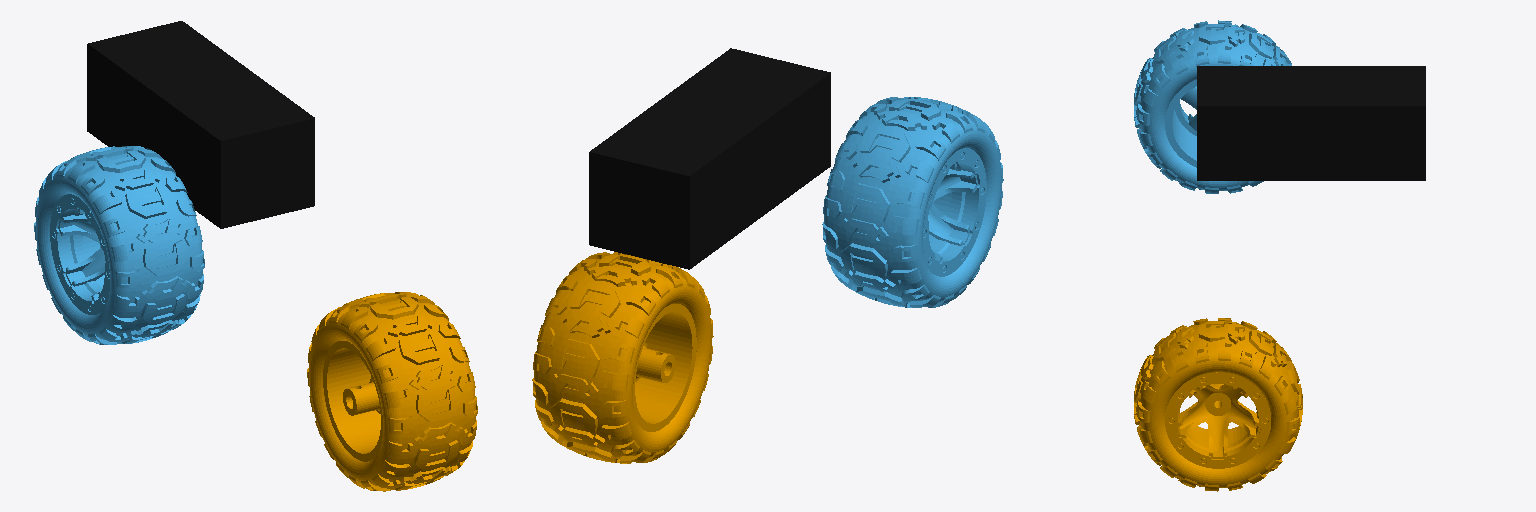
robot.urdf — wave_rover:
<?xml version="1.0" ?>
<!-- =================================================================================== -->
<!-- |    This document was autogenerated by xacro from rover.urdf.xacro               | -->
<!-- |    EDITING THIS FILE BY HAND IS NOT RECOMMENDED                                 | -->
<!-- =================================================================================== -->
<robot name="wave_rover">
  <gazebo reference="base_link">
    <mu1>0.2</mu1>
    <mu2>0.2</mu2>
    <material>Gazebo/Black</material>
  </gazebo>
  <gazebo reference="bracket_stand_link">
    <material>Gazebo/Black</material>
  </gazebo>
  <gazebo reference="camera_bracket_link">
    <material>Gazebo/Black</material>
  </gazebo>
  <gazebo reference="camera_link">
    <material>Gazebo/Silver</material>
  </gazebo>
  <gazebo reference="front_left_wheel">
    <mu1>0.2</mu1>
    <mu2>0.2</mu2>
    <material>Gazebo/Black</material>
  </gazebo>
  <gazebo reference="front_right_wheel">
    <mu1>0.2</mu1>
    <mu2>0.2</mu2>
    <material>Gazebo/Black</material>
  </gazebo>
  <gazebo reference="back_left_wheel">
    <mu1>0.2</mu1>
    <mu2>0.2</mu2>
    <material>Gazebo/Black</material>
  </gazebo>
  <gazebo reference="back_right_wheel">
    <mu1>0.2</mu1>
    <mu2>0.2</mu2>
    <material>Gazebo/Black</material>
  </gazebo>
  <gazebo reference="camera_sensor_link">
    <sensor name="camera" type="depth">
      <update_rate>30.0</update_rate>
      <camera>
        <horizontal_fov>1.3962634</horizontal_fov>
        <image>
          <width>640</width>
          <height>480</height>
          <format>R8G8B8</format>
        </image>
        <clip>
          <near>0.1</near>
          <far>5.0</far>
        </clip>
      </camera>
      <plugin filename="libgazebo_ros_camera.so" name="camera_controller">
        <ros>
          <namespace>/camera</namespace>
        </ros>
        <camera_name>camera</camera_name>
        <image_topic_name>image_raw</image_topic_name>
        <depth_image_topic_name>depth/image_raw</depth_image_topic_name>
        <info_topic_name>camera_info</info_topic_name>
        <point_cloud_topic_name>depth/points</point_cloud_topic_name>
        <frame_name>camera_link_optical</frame_name>
      </plugin>
    </sensor>
  </gazebo>
  <!-- Diff Drive Plugin -->
  <gazebo>
    <plugin filename="libgazebo_ros_diff_drive.so" name="diff_drive_controller">
      <ros>
        <namespace>/wave_rover</namespace>
      </ros>
      <num_wheel_pairs>2</num_wheel_pairs>
      <left_joints>
        <left_joint>front_left_wheel_joint</left_joint>
        <left_joint>back_left_wheel_joint</left_joint>
      </left_joints>
      <right_joints>
        <right_joint>front_right_wheel_joint</right_joint>
        <right_joint>back_right_wheel_joint</right_joint>
      </right_joints>
      <wheel_separation>0.11730000000000002</wheel_separation>
      <wheel_diameter>0.08</wheel_diameter>
      <max_wheel_torque>5000</max_wheel_torque>
      <max_wheel_acceleration>7.0</max_wheel_acceleration>
      <!--<wheelAcceleration>1.0</wheelAcceleration>-->
      <command_topic>cmd_vel</command_topic>
      <odometry_topic>odom</odometry_topic>
      <odometrySource>1</odometrySource>
      <odometry_frame>odom</odometry_frame>
      <robot_base_frame>dummy</robot_base_frame>
      <publish_odom>true</publish_odom>
      <publish_odom_tf>true</publish_odom_tf>
      <publish_wheel_tf>false</publish_wheel_tf>
    </plugin>
  </gazebo>
  <!-- Prevent fixed joint lumping -->
  <gazebo>
    <preserveFixedJoint>true</preserveFixedJoint>
    <disableFixedJointLumping>true</disableFixedJointLumping>
  </gazebo>
  <!-- Ensure robot is dynamic -->
  <gazebo>
    <static>false</static>
  </gazebo>
  <!-- ######################################################################### -->
  <!-- From here Links and Joints are defined                                    -->
  <!-- ######################################################################### -->
  <link name="dummy">
 </link>
  <joint name="dummy_joint" type="fixed">
    <parent link="dummy"/>
    <child link="base_link"/>
  </joint>
  <!-- Base -->
  <link name="base_link">
    <visual>
      <origin rpy="0 0 0" xyz="0 0 0"/>
      <geometry>
        <mesh filename="package://wave_rover_description/meshes/wave_rover_model.stl" scale="0.001 0.001 0.001"/>
      </geometry>
      <material name="grey">
        <color rgba="0.6 0.6 0.6 1.0"/>
      </material>
    </visual>
    <collision>
      <geometry>
        <box size="0.1828 0.0753 0.0542"/>
      </geometry>
    </collision>
    <inertial>
      <mass value="2.02180722888"/>
      <inertia ixx="2.8063835398211366e-06" ixy="0.0" ixz="0.0" iyy="0.01" iyz="0.0" izz="3.192278949949509e-05"/>
    </inertial>
  </link>
  <!-- Bracket Stand -->
  <link name="bracket_stand_link">
    <visual>
      <geometry>
        <box size="0.045 0.11 0.04"/>
      </geometry>
      <material name="black">
        <color rgba="0.1 0.1 0.1 1.0"/>
      </material>
    </visual>
    <inertial>
      <mass value="0.1"/>
      <inertia ixx="1e-5" ixy="0.0" ixz="0.0" iyy="1e-5" iyz="0.0" izz="1e-5"/>
    </inertial>
  </link>
  <joint name="bracket_stand_mount" type="fixed">
    <parent link="base_link"/>
    <child link="bracket_stand_link"/>
    <origin rpy="0 0 0" xyz="0.0 0.0042 0.07"/>
  </joint>
  <!-- Camera Bracket -->
  <link name="camera_bracket_link">
    <visual>
      <geometry>
        <mesh filename="package://wave_rover_description/meshes/realsense_bracket.stl" scale="0.001 0.001 0.001"/>
      </geometry>
    </visual>
    <inertial>
      <mass value="0.05"/>
      <inertia ixx="1e-6" ixy="0.0" ixz="0.0" iyy="1e-6" iyz="0.0" izz="1e-6"/>
    </inertial>
  </link>
  <joint name="bracket_mount" type="fixed">
    <parent link="bracket_stand_link"/>
    <child link="camera_bracket_link"/>
    <origin rpy="0 0 0" xyz="0.0 -0.04 0.02"/>
  </joint>
  <!-- Camera -->
  <link name="camera_link">
    <visual>
      <geometry>
        <mesh filename="package://wave_rover_description/meshes/d435.stl" scale="0.01 0.01 0.01"/>
      </geometry>
      <material name="blue">
        <color rgba="0.1 0.1 1.0 1.0"/>
      </material>
    </visual>
    <inertial>
      <mass value="0.2"/>
      <inertia ixx="1e-4" ixy="0.0" ixz="0.0" iyy="1e-4" iyz="0.0" izz="1e-4"/>
    </inertial>
  </link>
  <joint name="camera_mount" type="fixed">
    <parent link="camera_bracket_link"/>
    <child link="camera_link"/>
    <origin rpy="0.349 0 0" xyz="0.0 -0.03 0.02"/>
  </joint>
  <!-- Sensor Link -->
  <link name="camera_sensor_link">
    <inertial>
      <mass value="0.001"/>
      <inertia ixx="1e-8" ixy="0.0" ixz="0.0" iyy="1e-8" iyz="0.0" izz="1e-8"/>
    </inertial>
  </link>
  <joint name="camera_sensor_joint" type="fixed">
    <parent link="camera_link"/>
    <child link="camera_sensor_link"/>
    <origin rpy="0 0 -1.5708" xyz="0 0 0"/>
  </joint>
  <!-- Optical Frame -->
  <link name="camera_link_optical">
    <inertial>
      <mass value="0.001"/>
      <inertia ixx="1e-8" ixy="0.0" ixz="0.0" iyy="1e-8" iyz="0.0" izz="1e-8"/>
    </inertial>
  </link>
  <joint name="camera_optical_joint" type="fixed">
    <parent link="camera_sensor_link"/>
    <child link="camera_link_optical"/>
    <origin rpy="-1.5708 0 -1.5708" xyz="0 0 0"/>
  </joint>
  <!-- Wheel Links -->
  <link name="front_left_wheel">
    <inertial>
      <origin rpy="0 0 0" xyz="0 0 0"/>
      <mass value="14.303043016920002"/>
      <inertia ixx="6.055336291643253e-05" ixy="0.0" ixz="0.0" iyy="6.055336291643253e-05" iyz="0" izz="0.0005046113576369377"/>
    </inertial>
    <collision name="front_left_collision">
      <origin rpy="1.5708 0 0" xyz="0 0 0"/>
      <geometry>
        <cylinder length="0.042" radius="0.04"/>
      </geometry>
    </collision>
    <visual name="front_left_visual">
      <origin rpy="1.570795 0 0" xyz="0 0 0"/>
      <geometry>
        <mesh filename="package://wave_rover_description/meshes/front_left_wheel.stl" scale="0.001 0.001 0.001"/>
      </geometry>
    </visual>
  </link>
  <link name="front_right_wheel">
    <inertial>
      <origin rpy="0 0 0" xyz="0 0 0"/>
      <mass value="14.303043016920002"/>
      <inertia ixx="6.055336291643253e-05" ixy="0.0" ixz="0.0" iyy="6.055336291643253e-05" iyz="0" izz="0.0005046113576369377"/>
    </inertial>
    <collision name="front_right_collision">
      <origin rpy="1.5708 0 0" xyz="0 0 0"/>
      <geometry>
        <cylinder length="0.042" radius="0.04"/>
      </geometry>
    </collision>
    <visual name="front_right_visual">
      <origin rpy="1.570795 0 0" xyz="0 0 0"/>
      <geometry>
        <mesh filename="package://wave_rover_description/meshes/front_right_wheel.stl" scale="0.001 0.001 0.001"/>
      </geometry>
    </visual>
  </link>
  <link name="back_left_wheel">
    <inertial>
      <origin rpy="0 0 0" xyz="0 0 0"/>
      <mass value="14.303043016920002"/>
      <inertia ixx="6.055336291643253e-05" ixy="0.0" ixz="0.0" iyy="6.055336291643253e-05" iyz="0" izz="0.0005046113576369377"/>
    </inertial>
    <collision name="back_left_collision">
      <origin rpy="1.5708 0 0" xyz="0 0 0"/>
      <geometry>
        <cylinder length="0.042" radius="0.04"/>
      </geometry>
    </collision>
    <visual name="back_left_visual">
      <origin rpy="1.570795 0 0" xyz="0 0 0"/>
      <geometry>
        <mesh filename="package://wave_rover_description/meshes/back_left_wheel.stl" scale="0.001 0.001 0.001"/>
      </geometry>
    </visual>
  </link>
  <link name="back_right_wheel">
    <inertial>
      <origin rpy="0 0 0" xyz="0 0 0"/>
      <mass value="14.303043016920002"/>
      <inertia ixx="6.055336291643253e-05" ixy="0.0" ixz="0.0" iyy="6.055336291643253e-05" iyz="0" izz="0.0005046113576369377"/>
    </inertial>
    <collision name="back_right_collision">
      <origin rpy="1.5708 0 0" xyz="0 0 0"/>
      <geometry>
        <cylinder length="0.042" radius="0.04"/>
      </geometry>
    </collision>
    <visual name="back_right_visual">
      <origin rpy="1.570795 0 0" xyz="0 0 0"/>
      <geometry>
        <mesh filename="package://wave_rover_description/meshes/back_right_wheel.stl" scale="0.001 0.001 0.001"/>
      </geometry>
    </visual>
  </link>
  <!-- Wheel Joints with Damping -->
  <joint name="front_left_wheel_joint" type="revolute">
    <parent link="base_link"/>
    <child link="front_left_wheel"/>
    <origin rpy="0 0 0" xyz="0 0 0"/>
    <axis>
      <xyz>0 1 0</xyz>
      <dynamics damping="1.0" friction="1.0"/>
    </axis>
    <limit effort="10.0" lower="-1000" upper="1000" velocity="10.0"/>
  </joint>
  <joint name="front_right_wheel_joint" type="revolute">
    <parent link="base_link"/>
    <child link="front_right_wheel"/>
    <origin rpy="0 0 0" xyz="0 0 0"/>
    <axis>
      <xyz>0 1 0</xyz>
      <dynamics damping="1.0" friction="1.0"/>
    </axis>
    <limit effort="10.0" lower="-1000" upper="1000" velocity="10.0"/>
  </joint>
  <joint name="back_left_wheel_joint" type="revolute">
    <parent link="base_link"/>
    <child link="back_left_wheel"/>
    <origin rpy="0 0 0" xyz="0 0 0"/>
    <axis>
      <xyz>0 1 0</xyz>
      <dynamics damping="1.0" friction="1.0"/>
    </axis>
    <limit effort="10.0" lower="-1000" upper="1000" velocity="10.0"/>
  </joint>
  <joint name="back_right_wheel_joint" type="revolute">
    <parent link="base_link"/>
    <child link="back_right_wheel"/>
    <origin rpy="0 0 0" xyz="0 0 0"/>
    <axis>
      <xyz>0 1 0</xyz>
      <dynamics damping="1.0" friction="1.0"/>
    </axis>
    <limit effort="10.0" lower="-1000" upper="1000" velocity="10.0"/>
  </joint>
</robot>

--- Facts derived from the render (not from the file) ---
Views: 3 orthographic renders of the robot side by side, from view 1: azimuth 30°, elevation 25°; view 2: azimuth 150°, elevation 25°; view 3: azimuth 270°, elevation 25°.
Robot: wave_rover — 11 links, 10 joints (4 revolute, 6 fixed); root link dummy; default pose: all joints at 0.
Links seen in each view (by area): view 1: bracket_stand_link, front_right_wheel, back_left_wheel; view 2: bracket_stand_link, back_left_wheel, front_right_wheel; view 3: bracket_stand_link, front_right_wheel, back_left_wheel.
Link boxes in pixels (x1,y1,x2,y2): bracket_stand_link: (87,21,314,228); front_right_wheel: (307,292,477,491); back_left_wheel: (34,146,204,344); bracket_stand_link: (589,48,830,269); back_left_wheel: (822,97,1003,307); front_right_wheel: (532,252,713,463); bracket_stand_link: (1197,66,1425,180); front_right_wheel: (1134,318,1302,491); back_left_wheel: (1134,20,1291,193).
Bounding box of the posed robot: 0.1724 × 0.1404 × 0.1789 m (x, y, z).
2 mesh visuals loaded from 7 distinct referenced files (2 binary STL); not drawn: 5 (file found but could not be loaded).